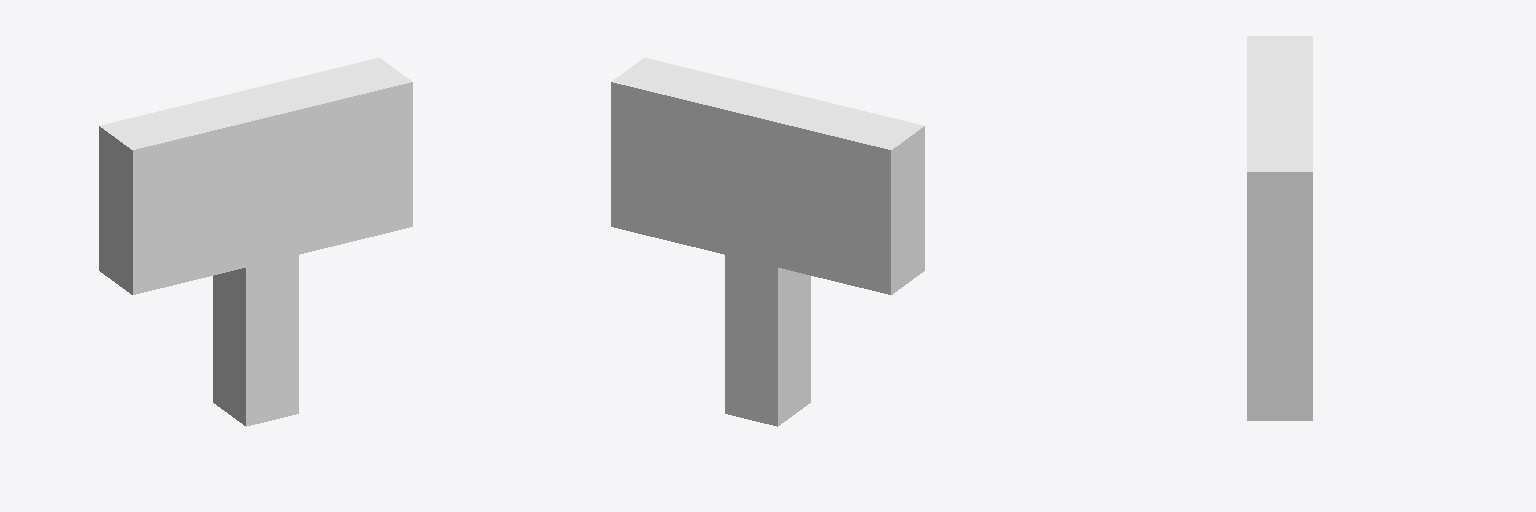
The model's file is kanbanPlane.obj.
The picture shows the model from 3 angles: view 1: azimuth 30°, elevation 25°; view 2: azimuth 150°, elevation 25°; view 3: azimuth 270°, elevation 25°; orthographic projection.
Visible parts, largest first — view 1: object 1; view 2: object 1; view 3: object 1.
Boxes of the visible parts, box(x1,y1,x2,y2) form: object 1: box(99, 58, 412, 426); object 1: box(611, 58, 924, 426); object 1: box(1247, 36, 1312, 420).
Bounding box in the file's own units: 24.7 × 25.6 × 5.1.